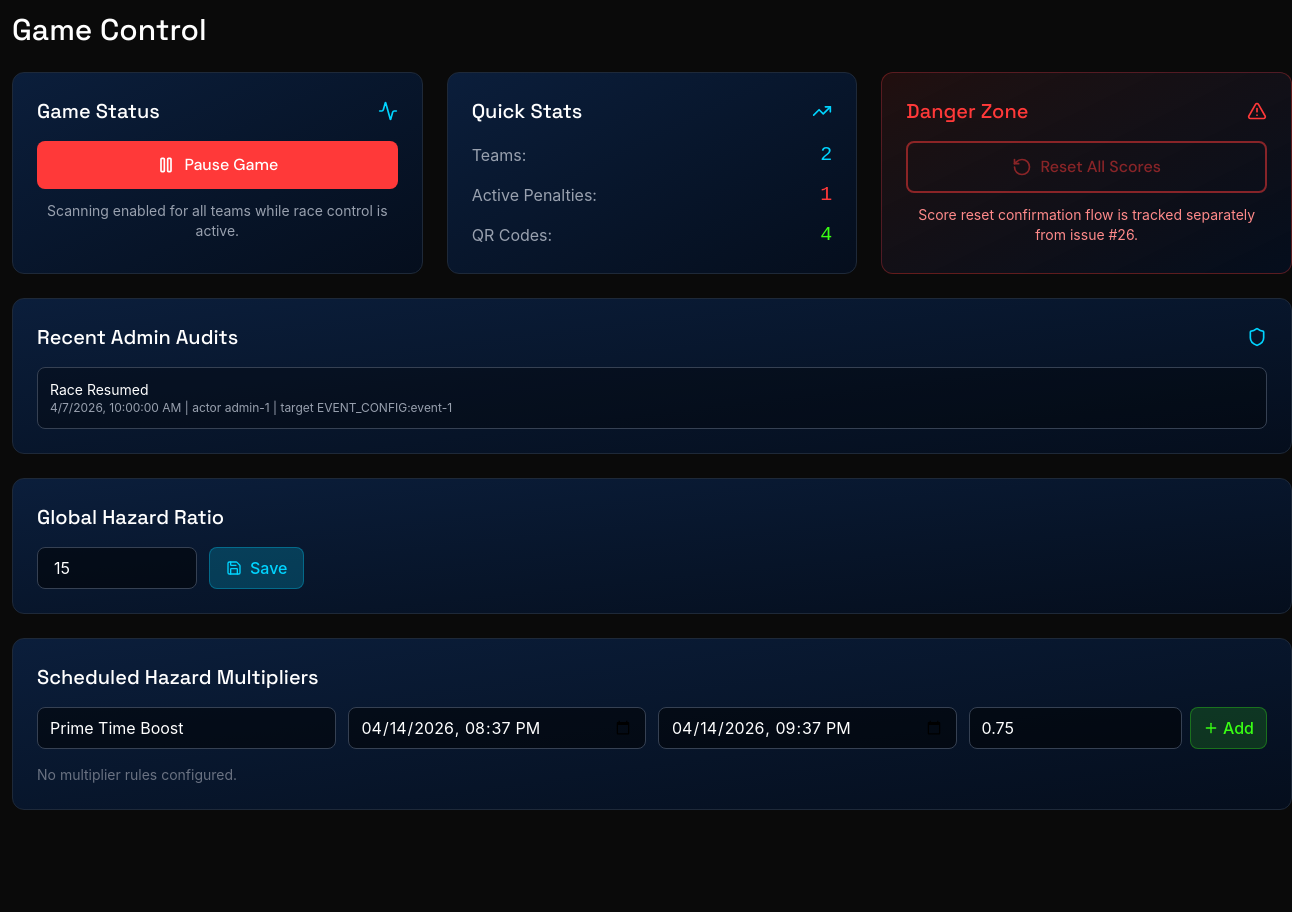
AdminGameControl operations › loads race control + audits and toggles pause state
This screenshot has width=1292, height=912.
Expected: the text "Race Resumed" is shown, [50,381,148,398]
Click the button "Pause Game" at (217, 165), box [37,141,398,189]
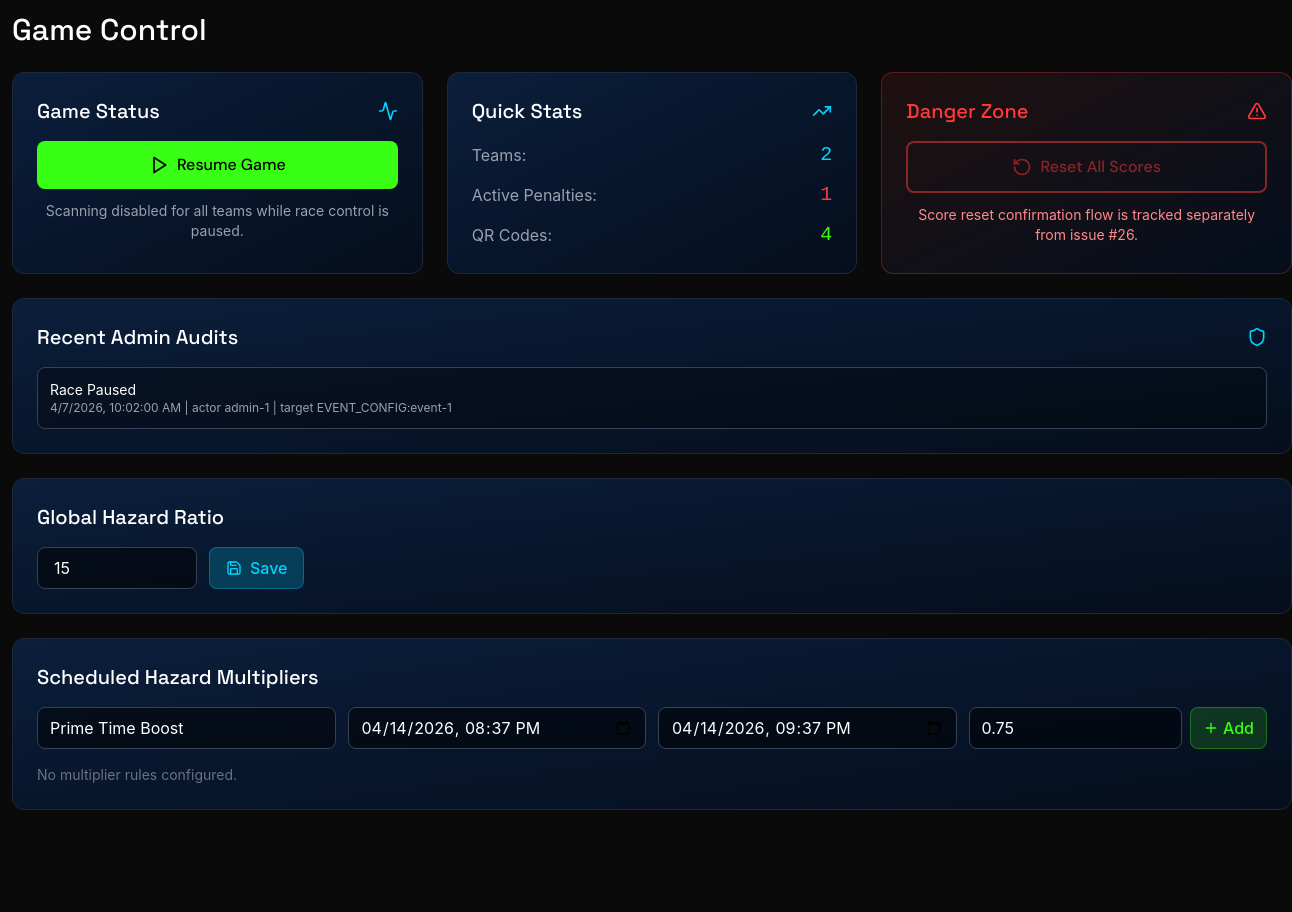
Expected: the button "Resume Game" is shown, [37,141,398,189]
Expected: the text "Race Paused" is shown, [50,381,136,398]
Expected: the text "Scanning disabled for all teams while race control is paused." is shown, [37,201,398,241]
